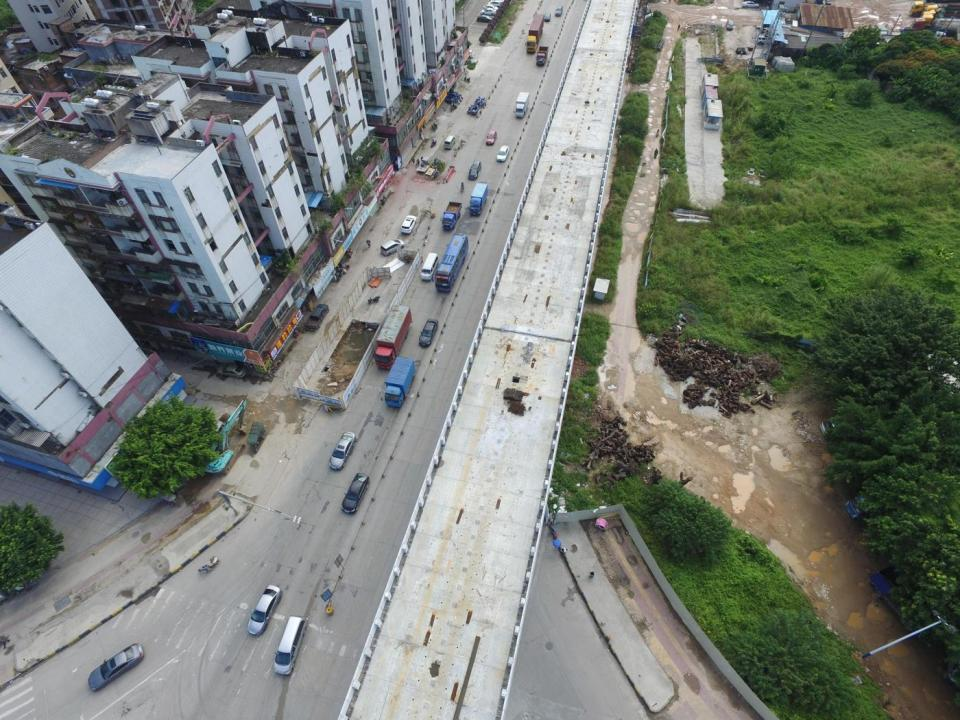car: (88, 642, 144, 692), (250, 586, 280, 636), (328, 432, 356, 474), (342, 474, 369, 514), (418, 320, 439, 346), (218, 364, 246, 378), (402, 214, 417, 234), (468, 160, 480, 180), (496, 146, 509, 162), (486, 131, 497, 146), (484, 3, 498, 13), (477, 14, 494, 22), (742, 1, 760, 8), (489, 0, 504, 8), (481, 9, 498, 15), (726, 21, 734, 30), (545, 13, 550, 23)
truck: (870, 564, 934, 639), (374, 304, 413, 369), (845, 483, 905, 518), (436, 234, 468, 293), (386, 356, 416, 409), (911, 0, 959, 16), (911, 17, 960, 32), (881, 32, 947, 43), (526, 14, 544, 54), (305, 303, 329, 330), (469, 183, 488, 216), (441, 202, 462, 229), (921, 8, 960, 18), (515, 92, 529, 119), (922, 14, 960, 23), (535, 47, 548, 67), (555, 6, 563, 17)
van: (275, 614, 309, 674), (420, 252, 438, 281), (379, 240, 404, 255), (444, 135, 456, 150), (756, 36, 774, 45)
